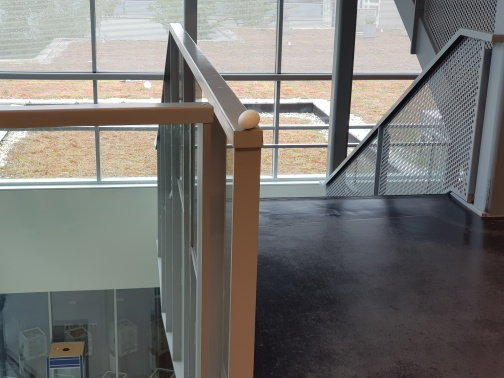egg: (235, 107, 261, 130)
